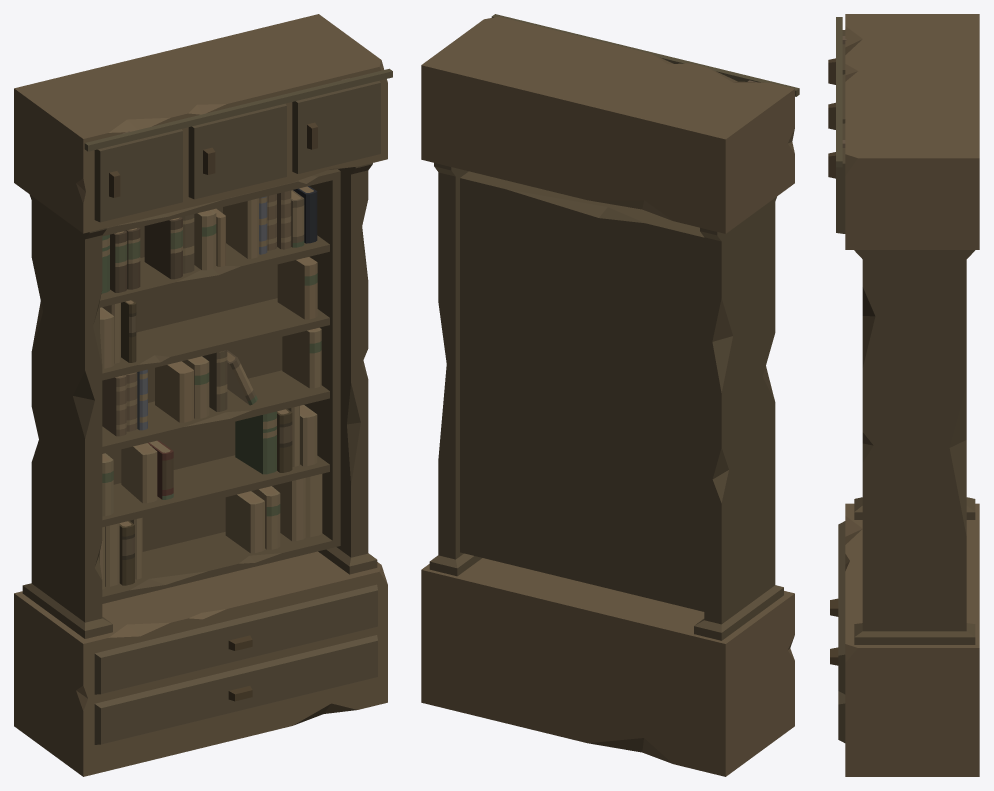
File: dungeon_SM_Prop_Bookcase_Grand_03.gltf
3 views of the same model, side by side, from view 1: azimuth 30°, elevation 25°; view 2: azimuth 150°, elevation 25°; view 3: azimuth 270°, elevation 25° (orthographic). The views are drawn at different scales.
Parts seen in each view (by area): view 1: SM_Prop_Bookcase_Grand_03; view 2: SM_Prop_Bookcase_Grand_03; view 3: SM_Prop_Bookcase_Grand_03.
Boxes of the visible parts, x1,y1,x2,y2 form: SM_Prop_Bookcase_Grand_03: (14,14,392,776); SM_Prop_Bookcase_Grand_03: (421,14,799,776); SM_Prop_Bookcase_Grand_03: (828,14,979,776).
Bounding box in the file's own units: 2.5 × 5 × 1.11.
Materials: 1 (1 with a texture image).
